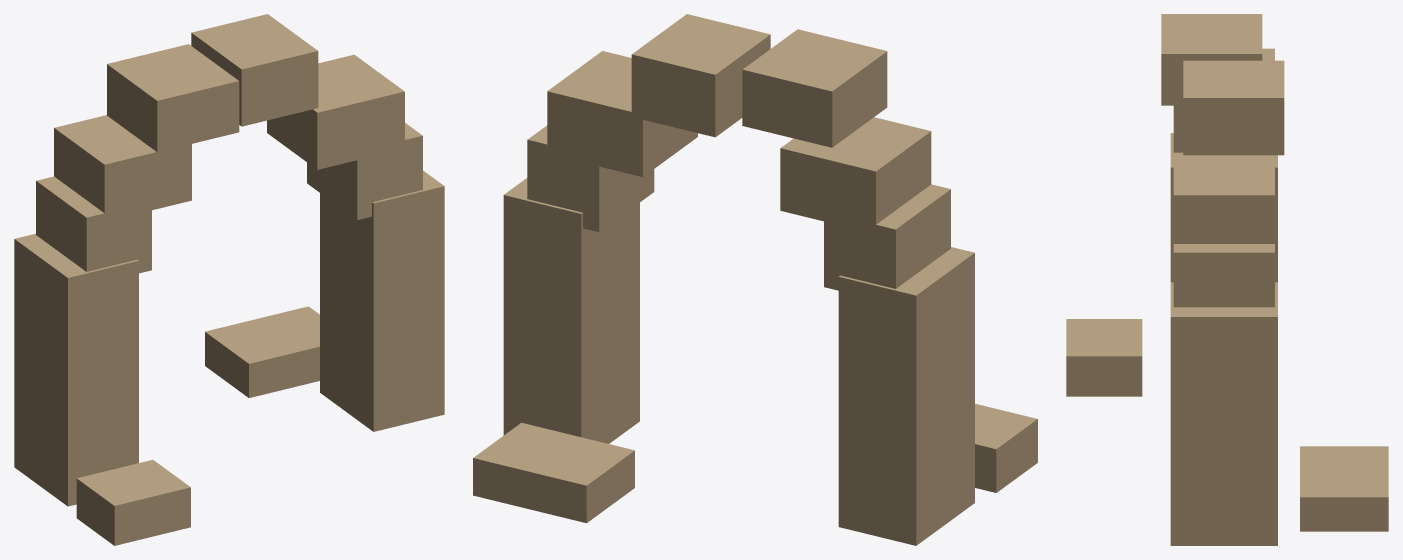
The model's file is ruin_arche_brisee_02.glb.
The picture shows the model from 3 angles, left to right: view 1: azimuth 30°, elevation 25°; view 2: azimuth 150°, elevation 25°; view 3: azimuth 270°, elevation 25°; orthographic projection. The views are drawn at different scales.
Visible parts, largest first — view 1: geometry_0; view 2: geometry_0; view 3: geometry_0.
Part boxes in pixels (x1=…): geometry_0: x1=14, y1=14, x2=444, y2=545; geometry_0: x1=473, y1=14, x2=1037, y2=545; geometry_0: x1=1066, y1=14, x2=1388, y2=545.
Bounding box in the file's own units: 0.7 × 0.68 × 0.51.
